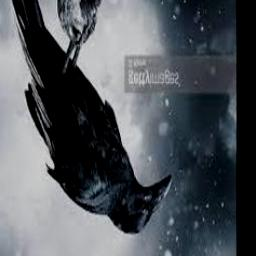Crow: (9, 0, 171, 236)
